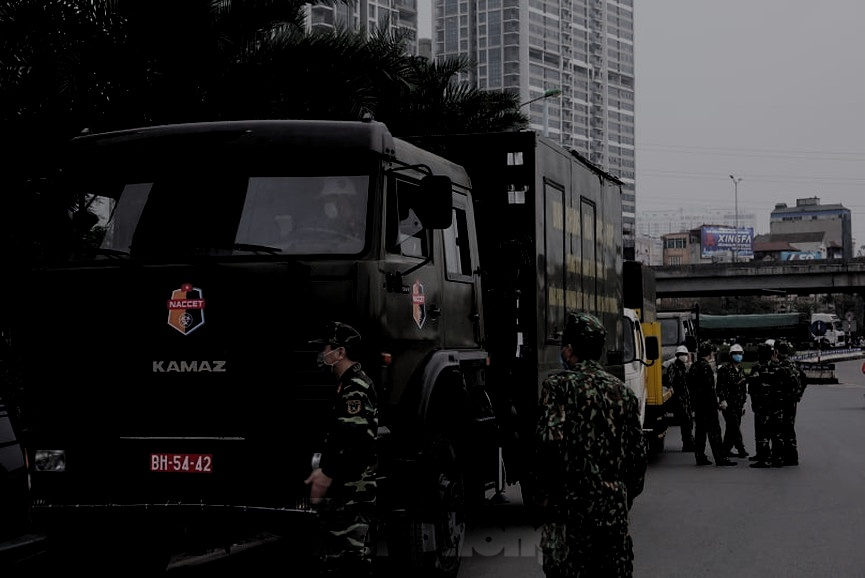plate: (148, 451, 215, 476)
